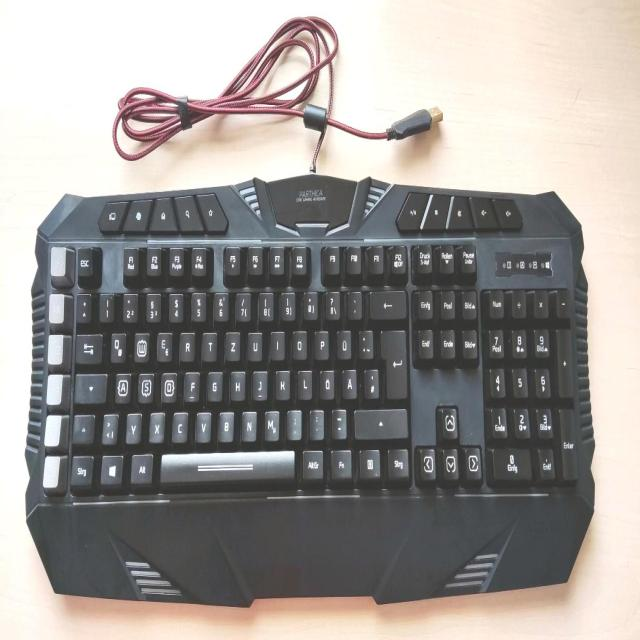0: (301, 286, 317, 317)
1: (97, 289, 113, 320)
2: (120, 289, 137, 320)
3: (143, 288, 160, 320)
4: (167, 289, 183, 320)
5: (189, 289, 205, 320)
6: (212, 289, 228, 320)
7: (234, 288, 250, 319)
8: (256, 288, 273, 320)
9: (279, 287, 295, 318)
a: (113, 368, 130, 401)
accent: (345, 287, 361, 317)
ae: (340, 365, 356, 397)
alt-left: (128, 449, 152, 482)
altgr-right: (300, 445, 322, 478)
b: (216, 407, 233, 440)
c: (170, 407, 186, 439)
caret: (75, 290, 90, 321)
comma: (285, 406, 301, 437)
d: (159, 368, 176, 399)
del: (367, 287, 405, 318)
e: (155, 328, 171, 359)
enter: (378, 324, 406, 398)
f: (183, 368, 199, 399)
g: (205, 367, 221, 399)
h: (229, 366, 245, 398)
hash: (362, 364, 378, 395)
i: (268, 327, 284, 357)
j: (251, 366, 266, 398)
k: (273, 365, 289, 398)
keyboard: (25, 209, 594, 526)
l: (295, 365, 311, 397)
less: (100, 409, 117, 442)
m: (262, 406, 278, 438)
minus: (329, 404, 345, 436)
n: (239, 406, 256, 439)
o: (290, 327, 306, 357)
oe: (318, 366, 334, 398)
p: (312, 327, 328, 358)
plus: (356, 325, 372, 357)
point: (308, 407, 323, 437)
q: (108, 327, 125, 360)
r: (178, 328, 194, 359)
s: (137, 368, 154, 401)
shift-left: (71, 411, 94, 442)
shift-lock: (73, 370, 106, 401)
shift-right: (352, 405, 406, 436)
space: (157, 447, 294, 483)
ss: (322, 287, 339, 318)
strg-left: (69, 451, 93, 485)
strg-right: (385, 445, 408, 478)
t: (200, 328, 216, 359)
tab: (73, 330, 101, 363)
u: (245, 328, 262, 359)
ue: (335, 326, 351, 357)
v: (193, 407, 210, 440)
w: (132, 328, 148, 358)
x: (147, 407, 163, 439)
y: (124, 408, 141, 441)
z: (223, 327, 239, 359)
